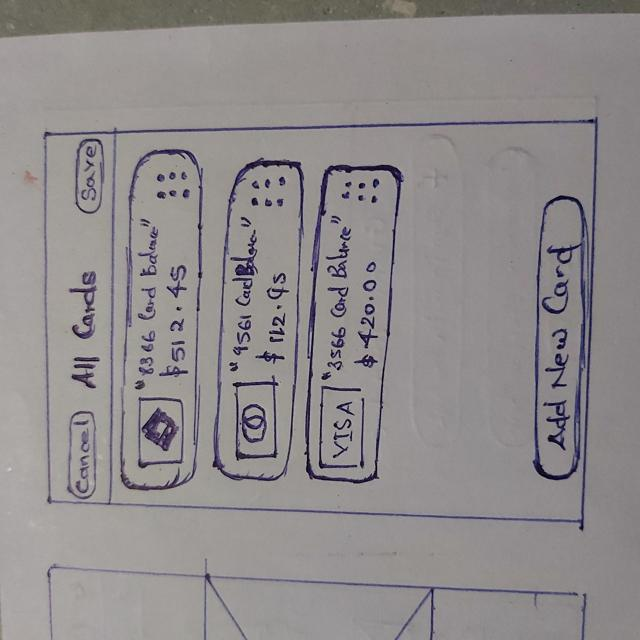AppBar: (40, 128, 112, 506)
Button: (533, 196, 583, 481), (66, 410, 100, 500), (73, 136, 104, 215)
Icon: (231, 379, 284, 466), (317, 384, 367, 469), (138, 394, 185, 467), (151, 167, 193, 206), (248, 172, 292, 209), (344, 177, 385, 206)
MainLayout: (40, 119, 599, 524)
TextView: (67, 268, 100, 391), (134, 216, 157, 389), (325, 214, 348, 381), (234, 215, 255, 370), (163, 261, 189, 379), (354, 258, 379, 372), (265, 269, 287, 362)
